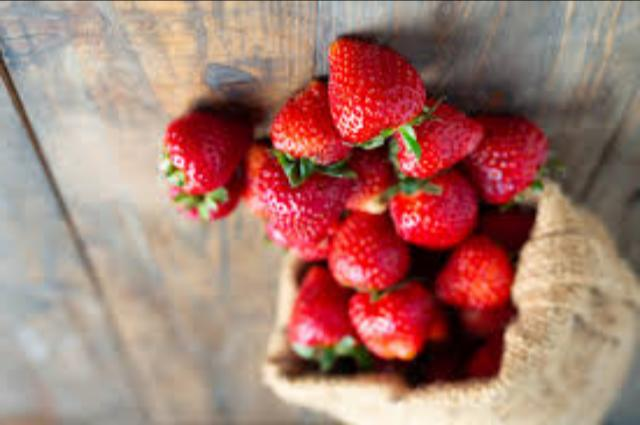Strawberries: (330, 34, 426, 146), (255, 159, 353, 253), (468, 115, 554, 205), (274, 79, 352, 177), (163, 110, 243, 194), (331, 210, 409, 294), (290, 266, 358, 362), (348, 284, 432, 360), (389, 176, 476, 246), (396, 107, 484, 176), (440, 236, 510, 310)
